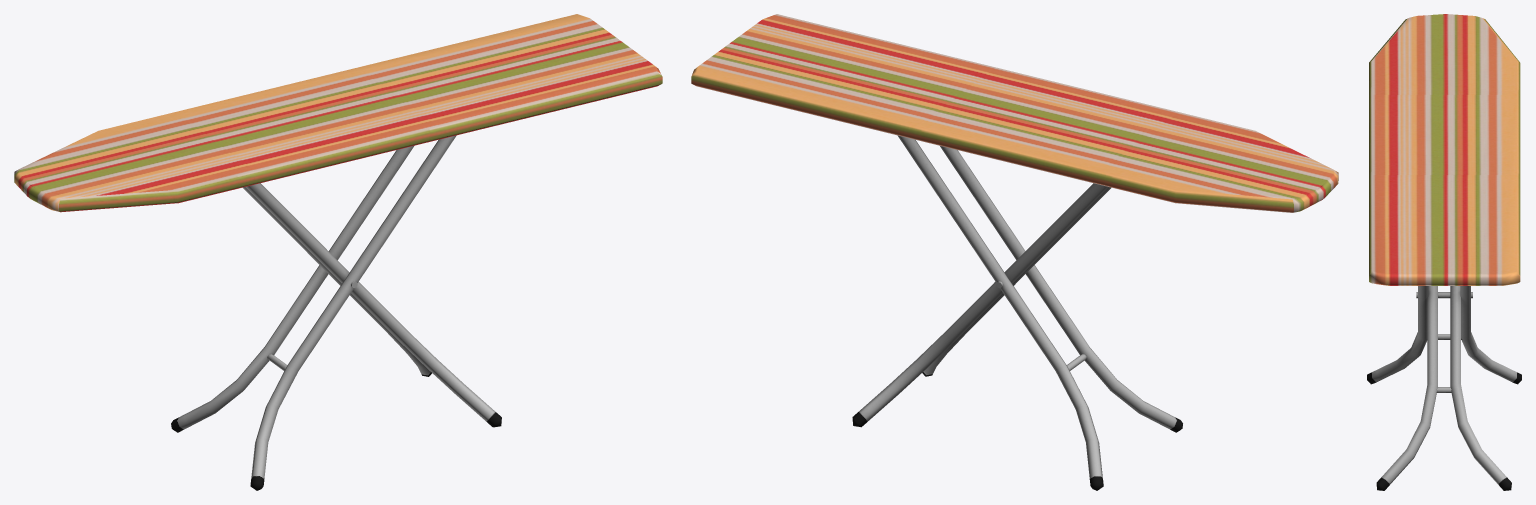
The model's file is ironingBoard.fbx.
The picture shows the model from 3 angles, left to right: view 1: azimuth 30°, elevation 25°; view 2: azimuth 150°, elevation 25°; view 3: azimuth 270°, elevation 25°; orthographic projection. The views are drawn at different scales.
Visible parts, largest first — view 1: ironingBoard; view 2: ironingBoard; view 3: ironingBoard.
Boxes of the visible parts, x1,y1,x2,y2 form: ironingBoard: [14, 14, 662, 490]; ironingBoard: [691, 14, 1338, 490]; ironingBoard: [1367, 14, 1521, 490].
Size of the model in its own units: 3.96 by 2.02 by 0.9861.
1 material, 1 textured.
